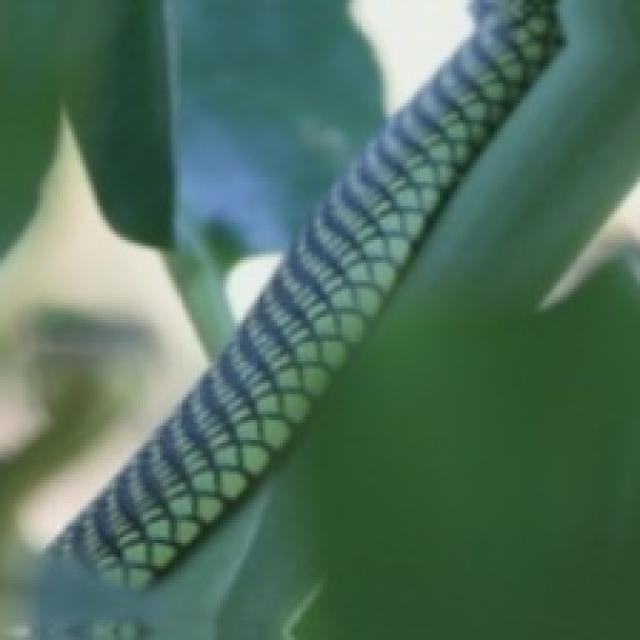paradise tree snake: (40, 0, 560, 637)
